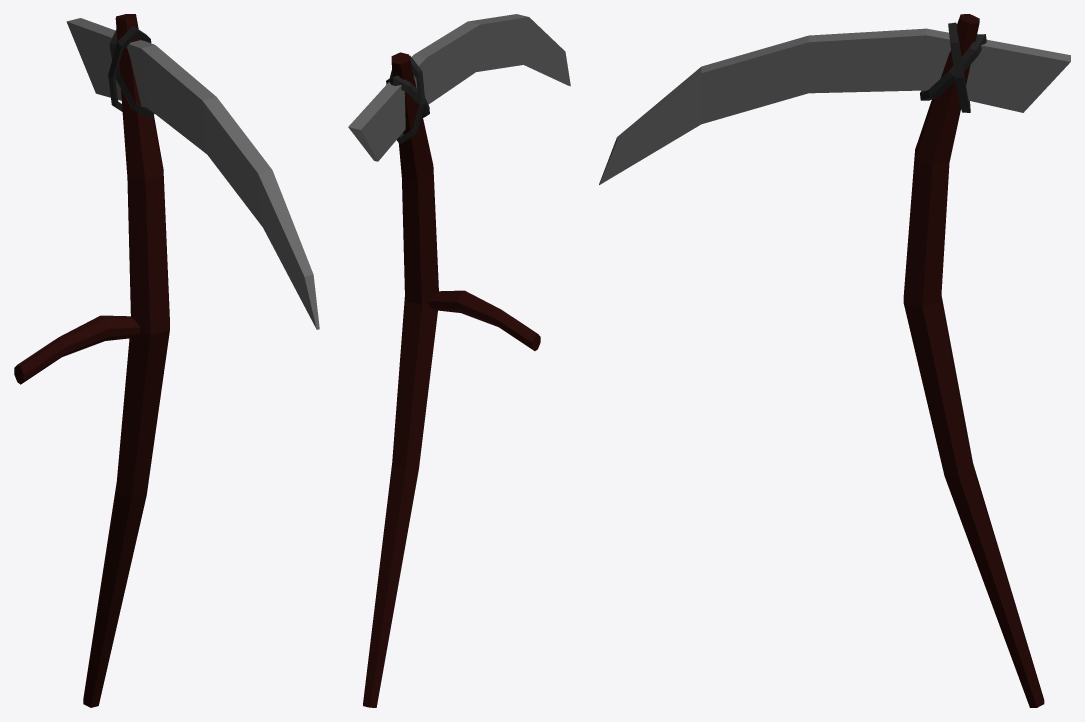
File: scythe.fbx
3 renders of one model, left to right at view 1: azimuth 30°, elevation 25°; view 2: azimuth 150°, elevation 25°; view 3: azimuth 270°, elevation 25°, orthographic. The views are drawn at different scales.
Parts seen in each view (by area): view 1: Plane; view 2: Plane; view 3: Plane.
Boxes of the visible parts, <box> form: Plane: <box>14,14,319,707</box>; Plane: <box>348,14,570,707</box>; Plane: <box>599,14,1070,707</box>.
Size of the model in its own units: 45.01 by 202 by 126.
